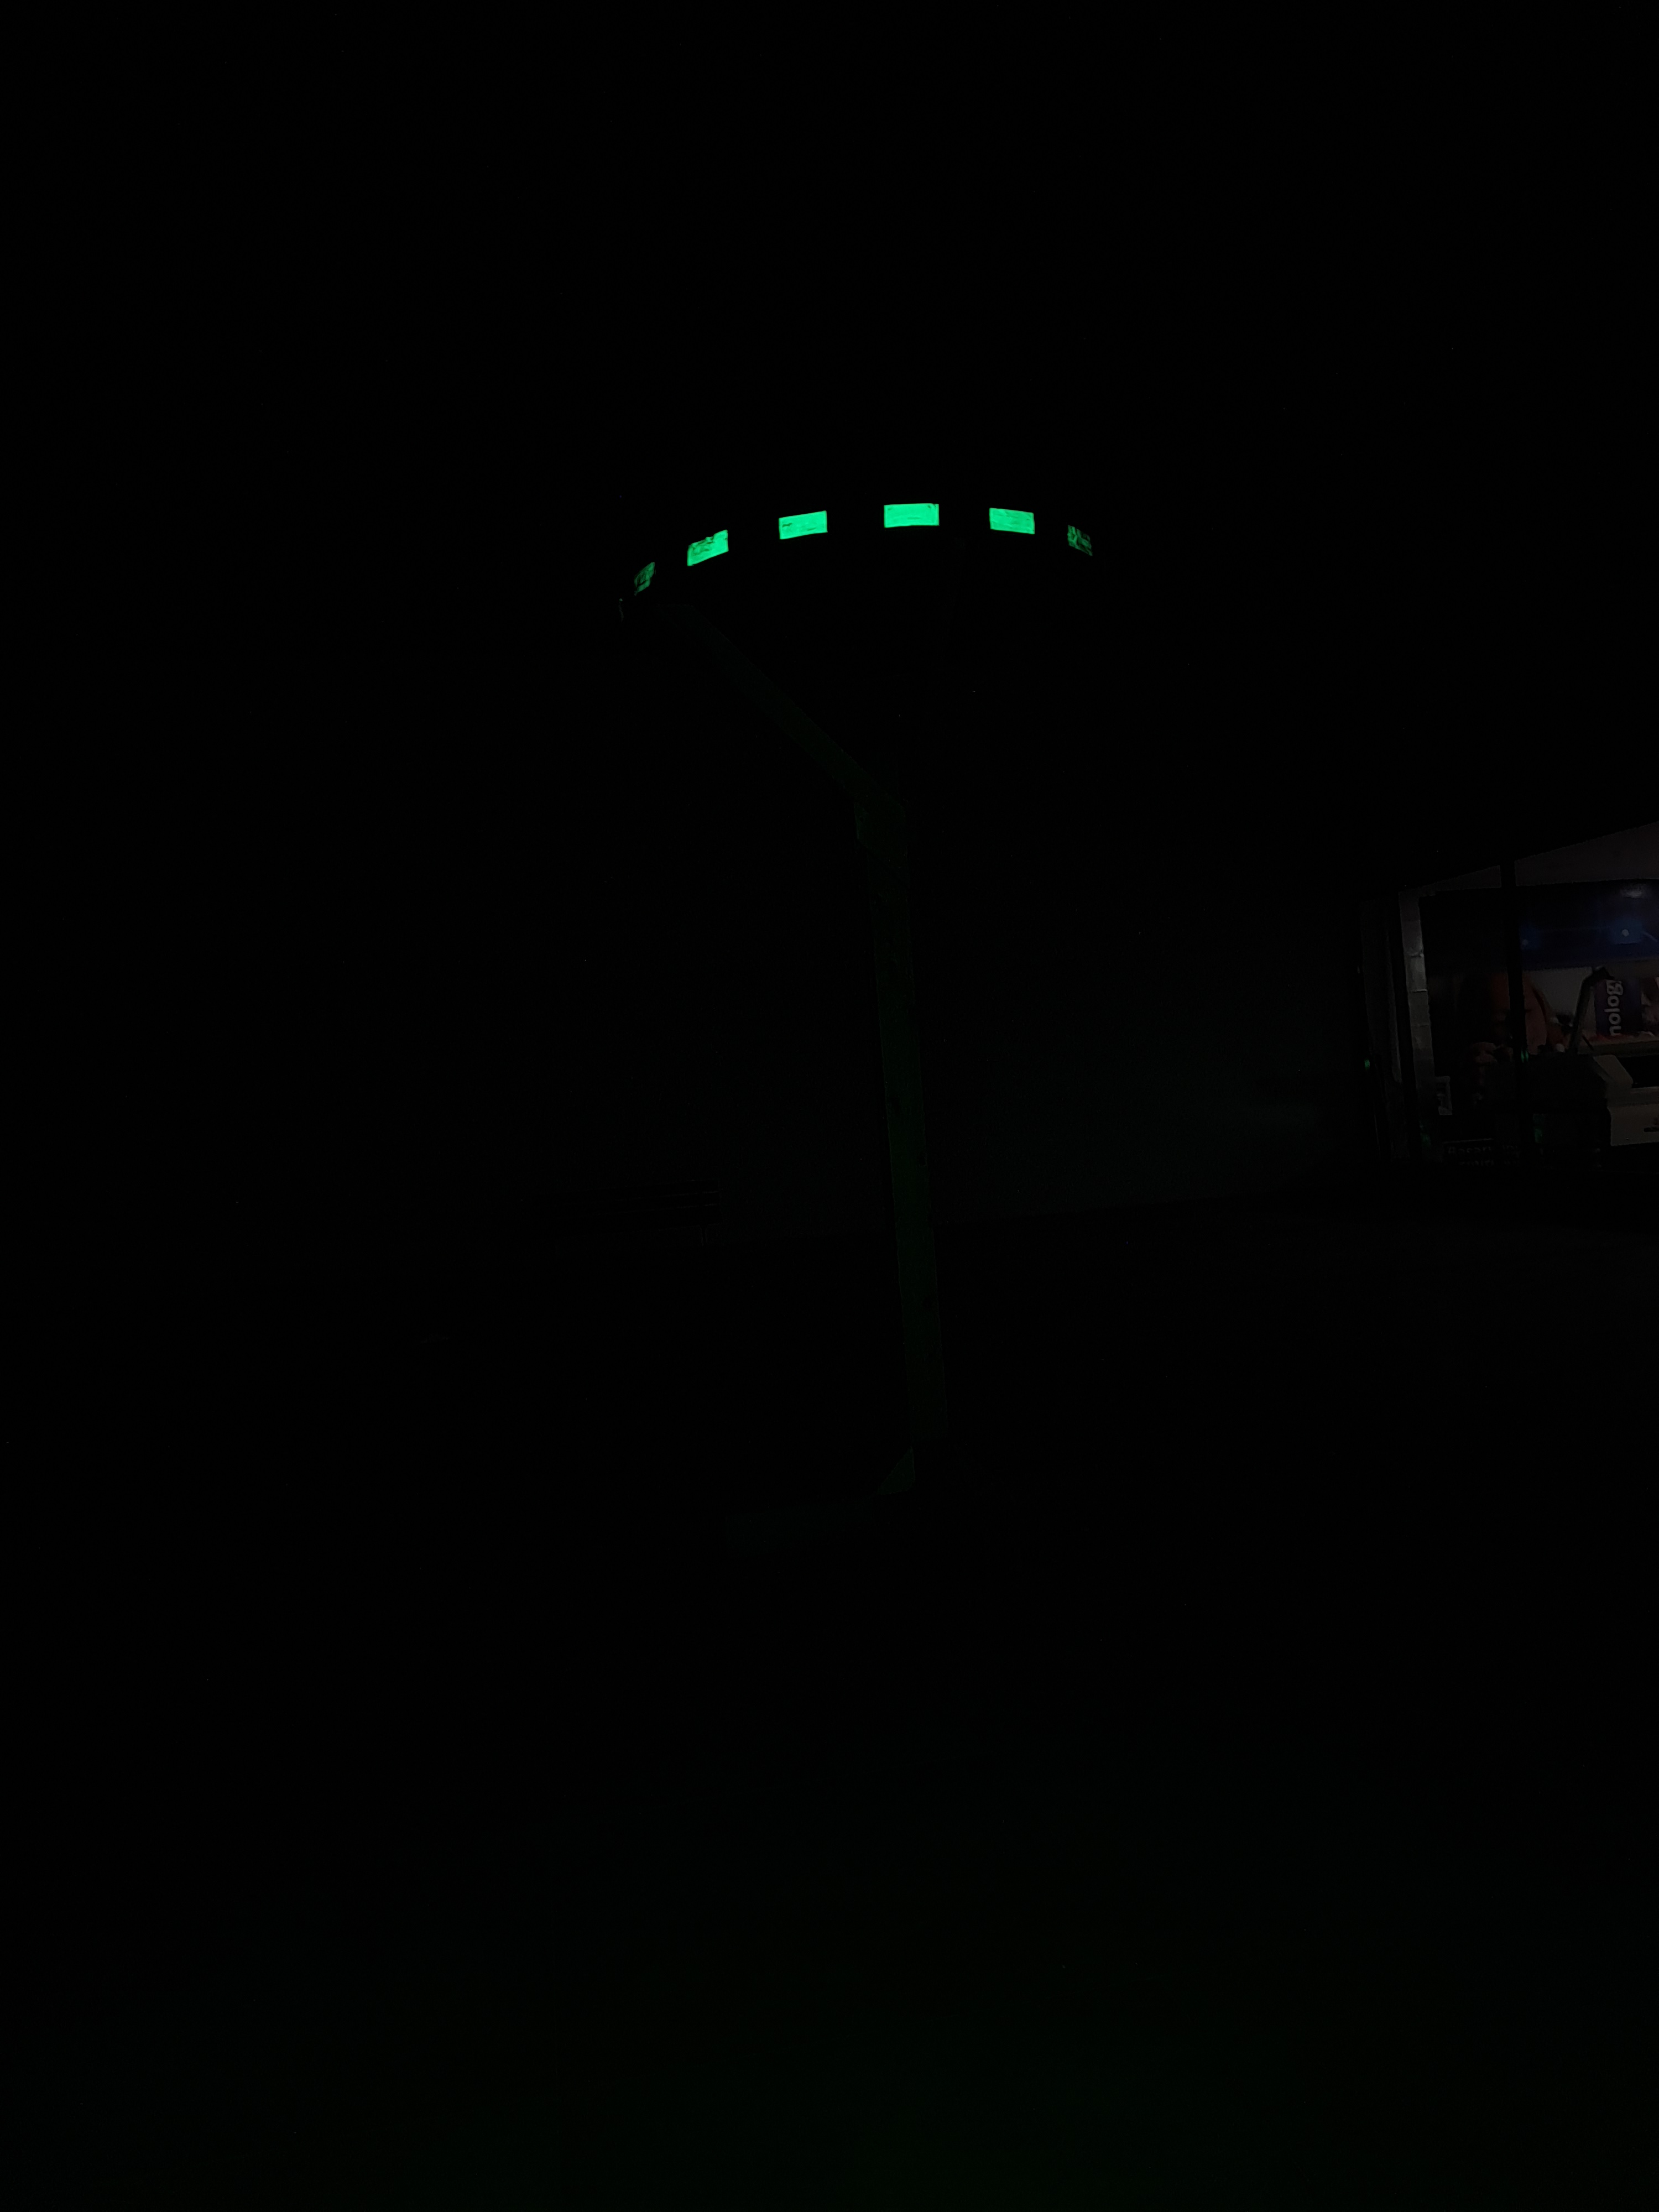hoop: (605, 491, 1124, 620)
